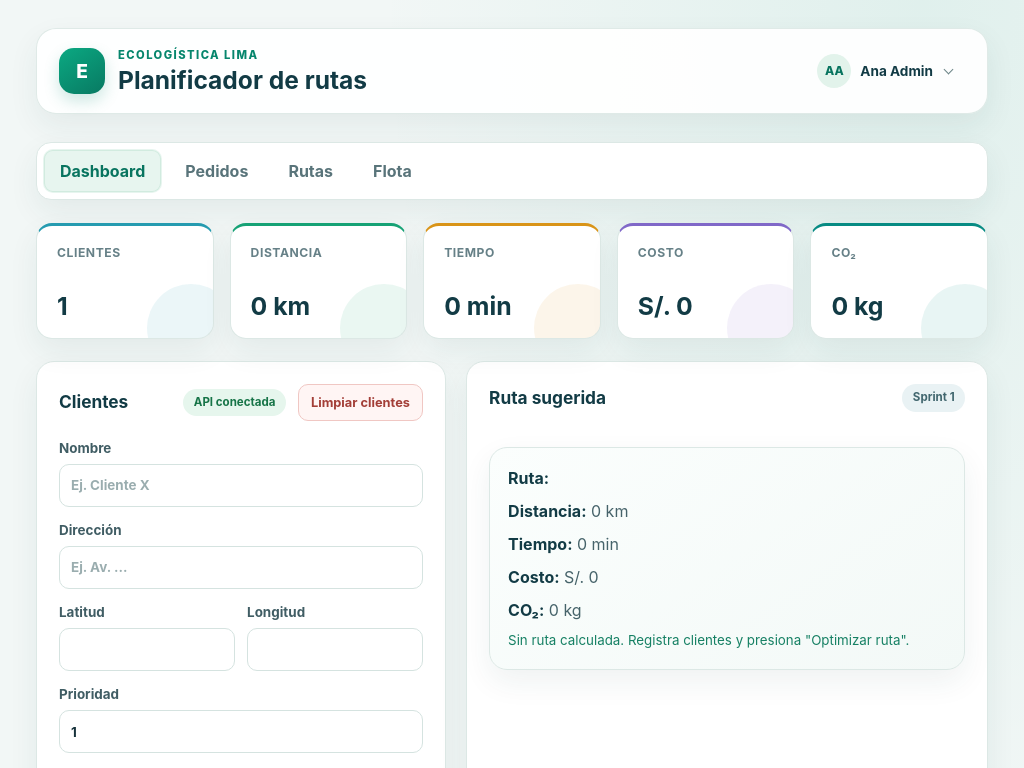
it: Gestión de clientes y pedidos › permite completar el peso de un pedido antiguo antes de asignarlo
Check: the text "API conectada" is shown, box left=183, top=389, right=286, bottom=416
Step 1. Click the button "Pedidos" → (217, 171), box left=168, top=149, right=265, bottom=193
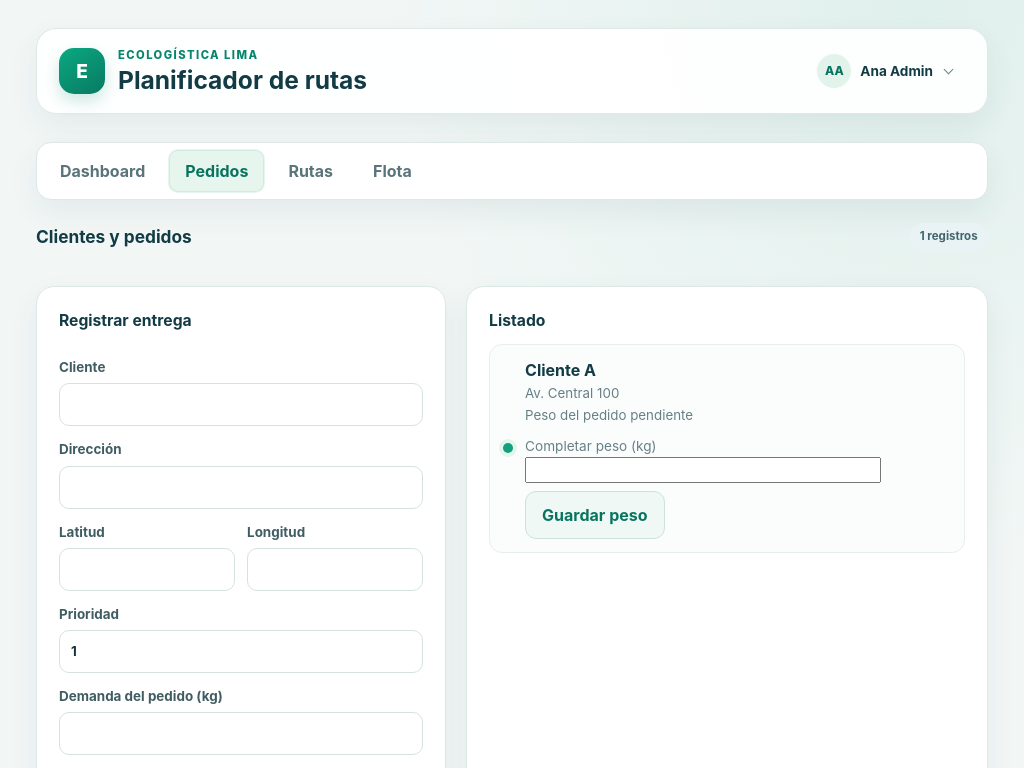
Step 2. Type "38.5" into the number field named "Peso del pedido 1 en kg" → (703, 470), box left=525, top=457, right=880, bottom=483
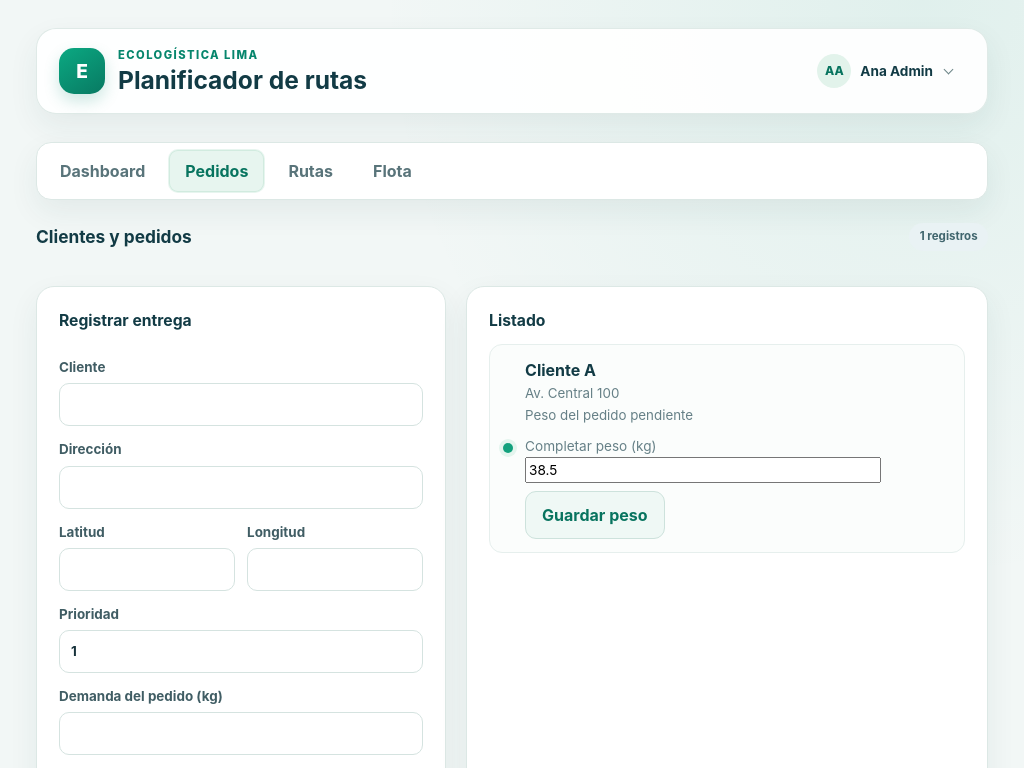
Step 3. Click the button "Guardar peso" → (595, 515), box left=525, top=491, right=665, bottom=539
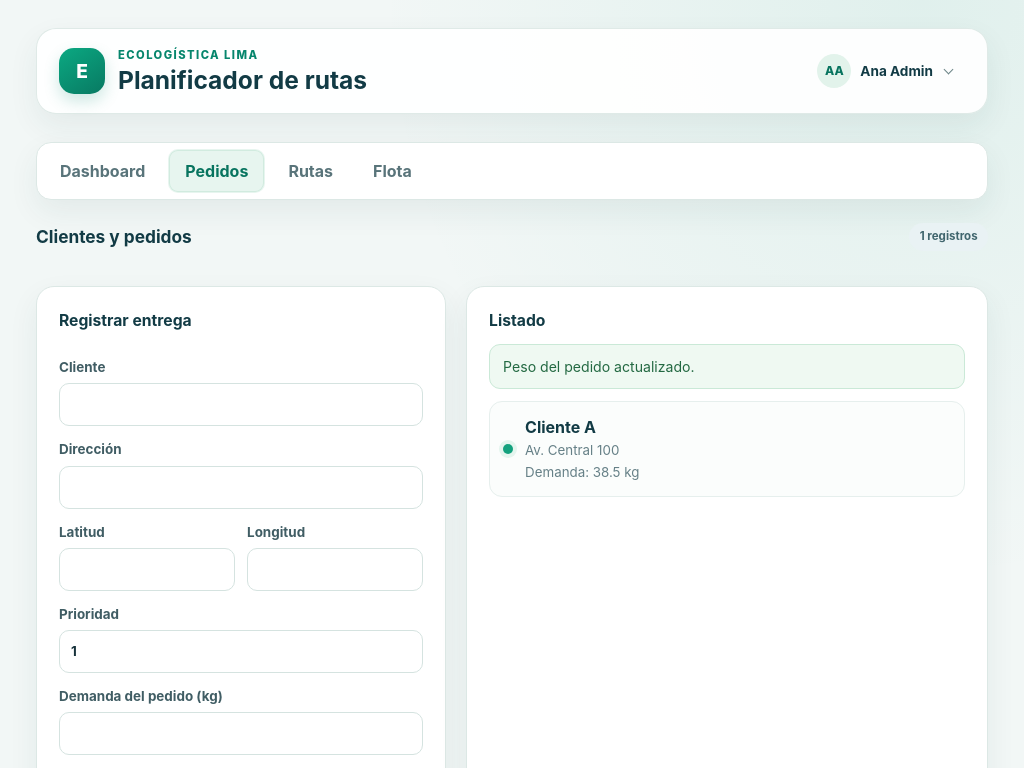
Check: the text "Peso del pedido actualizado." is shown, box left=489, top=344, right=965, bottom=389
Check: the text "Demanda: 38.5 kg" is shown, box left=525, top=463, right=639, bottom=483
